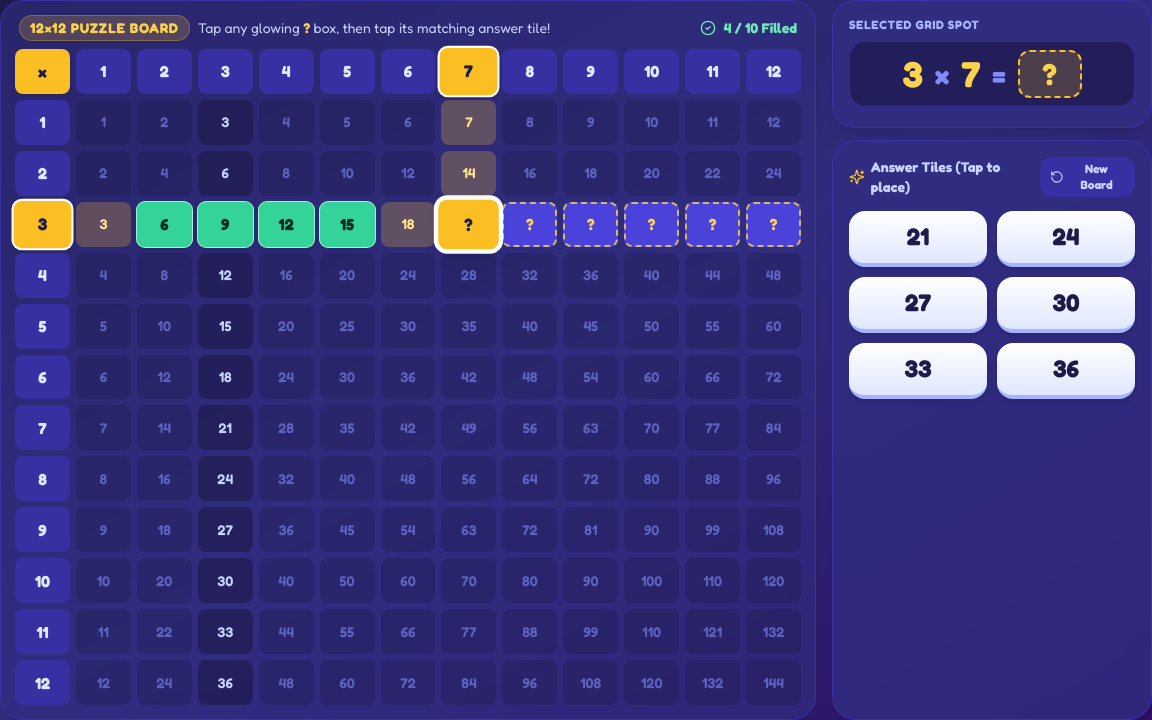
Test: GridDetectiveMode › completes the round when all 10 missing cells are matched
Earlier steps of the test are not shown.
What coordinates should you click on to do the following:
click the button "21"
I would click on:
 (918, 239)
Its box is [849,211,987,267].
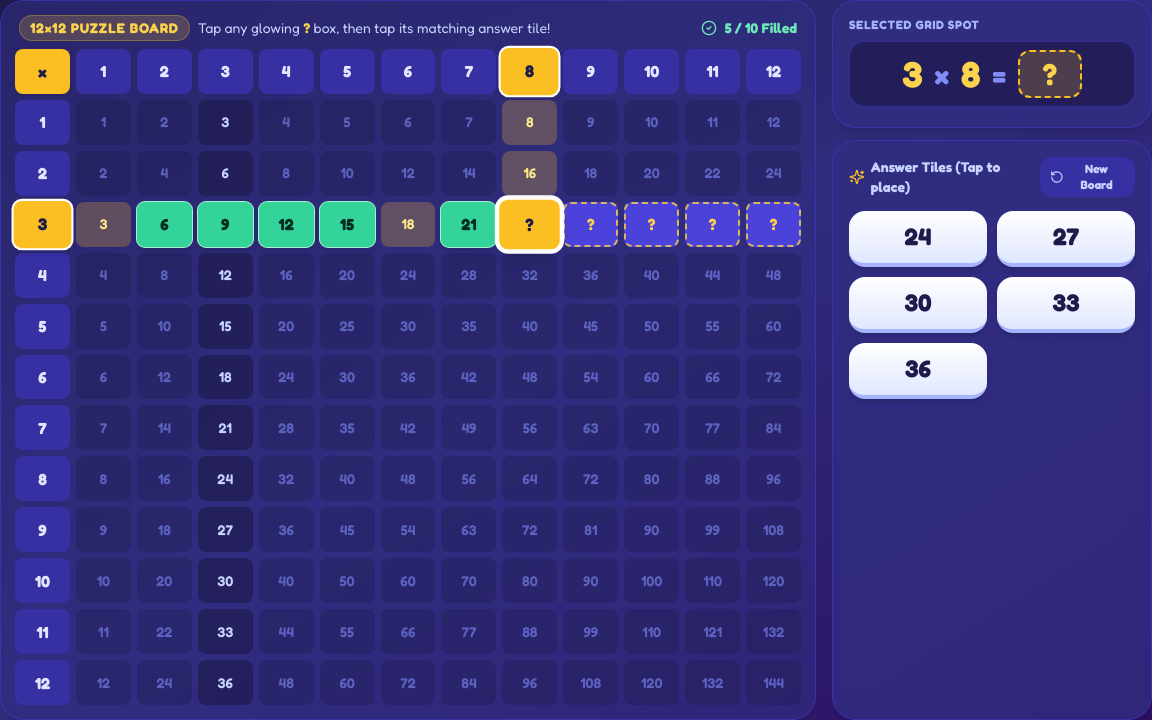
What coordinates should you click on to do the following:
click the button "24"
I would click on:
 (918, 239)
Its box is [849,211,987,267].
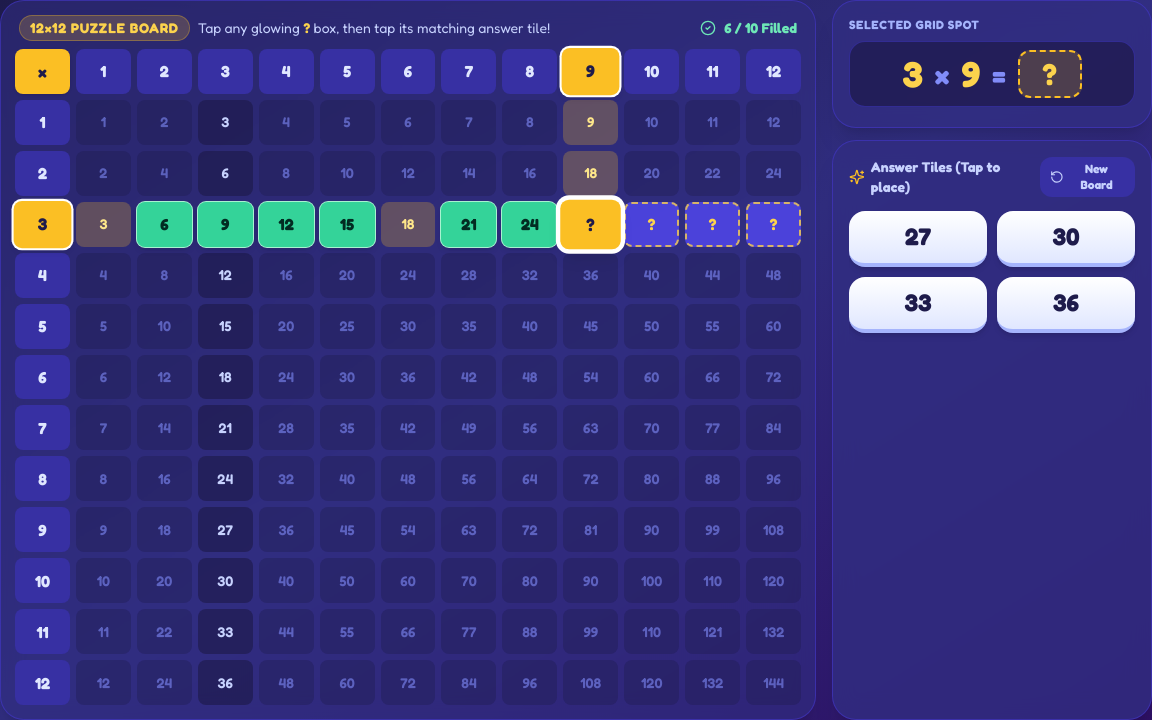
What coordinates should you click on to do the following:
click the button "27"
I would click on:
 (918, 239)
Its box is [849,211,987,267].
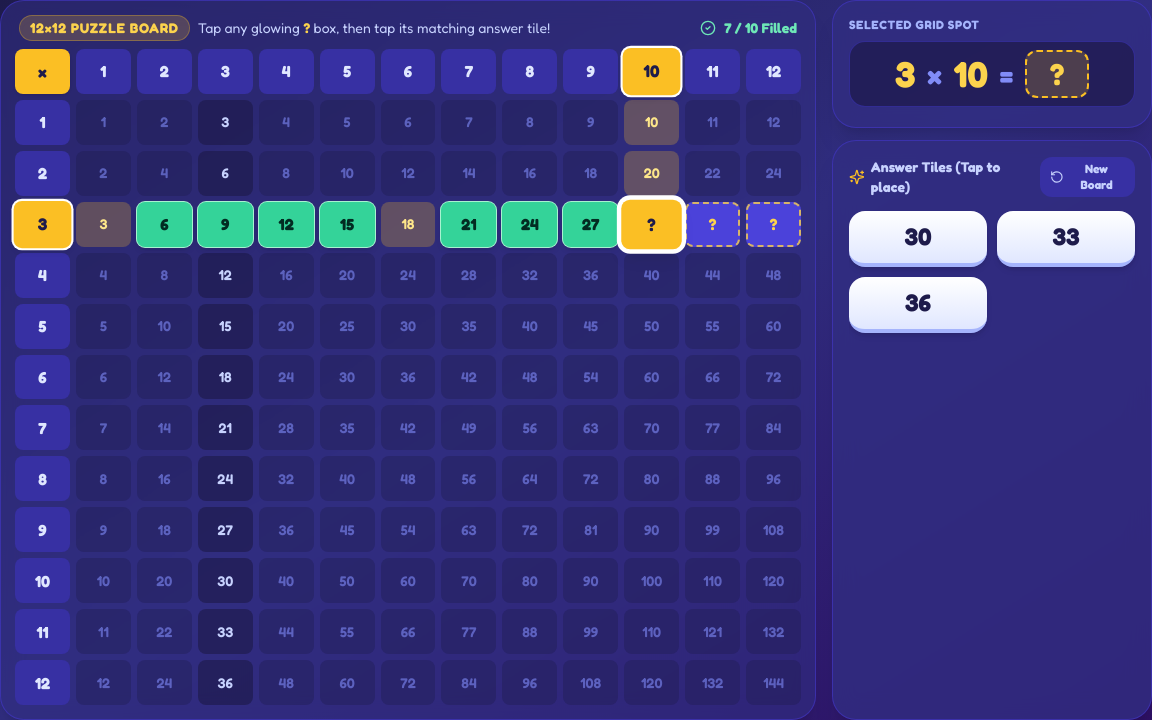
What coordinates should you click on to do the following:
click the button "30"
I would click on:
 (918, 239)
Its box is [849,211,987,267].
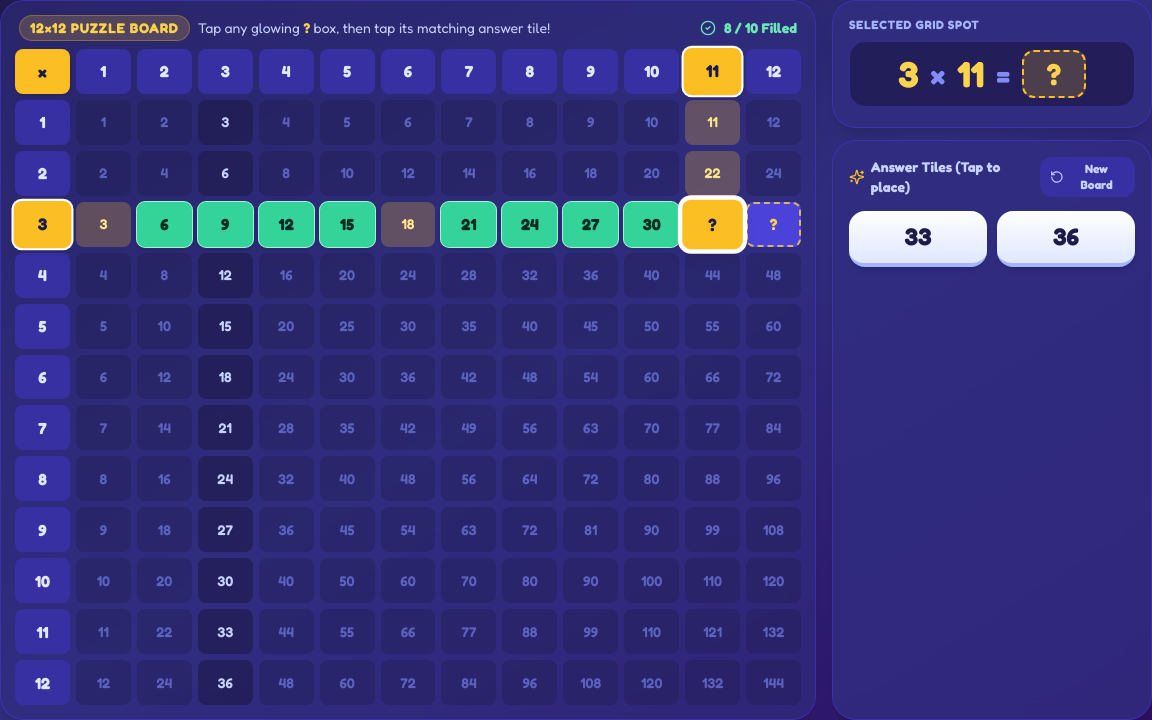
What coordinates should you click on to do the following:
click the button "33"
I would click on:
 (918, 239)
Its box is [849,211,987,267].
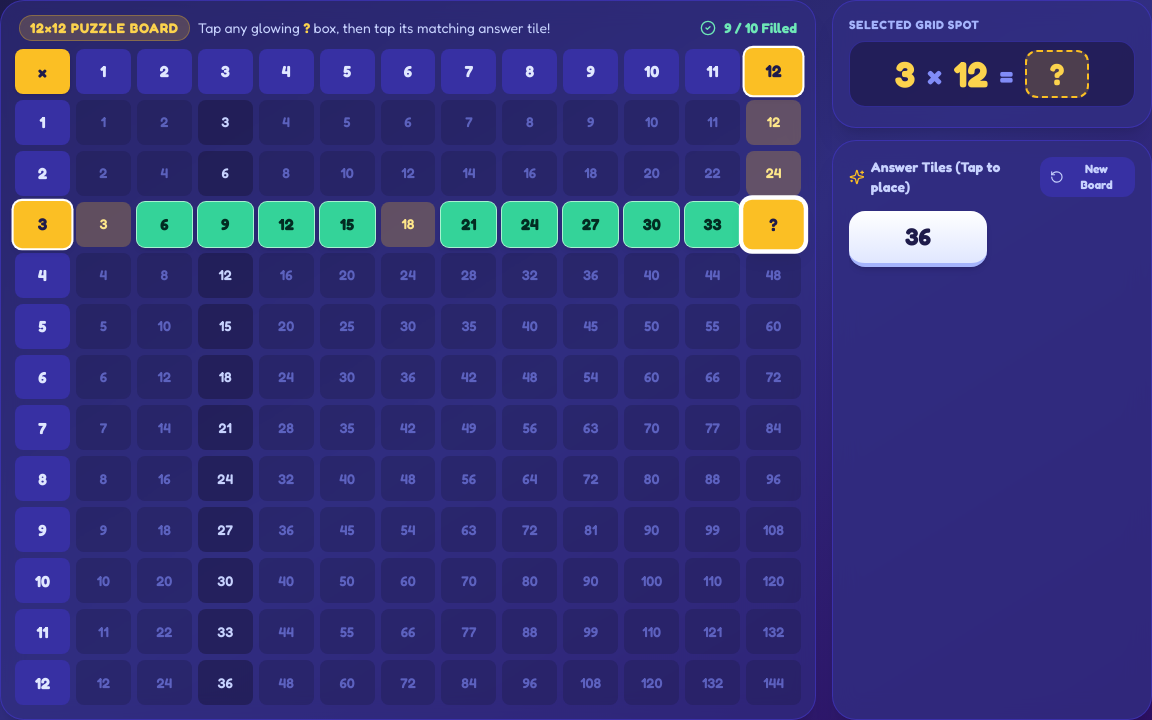
What coordinates should you click on to do the following:
click the button "36"
I would click on:
 (918, 239)
Its box is [849,211,987,267].
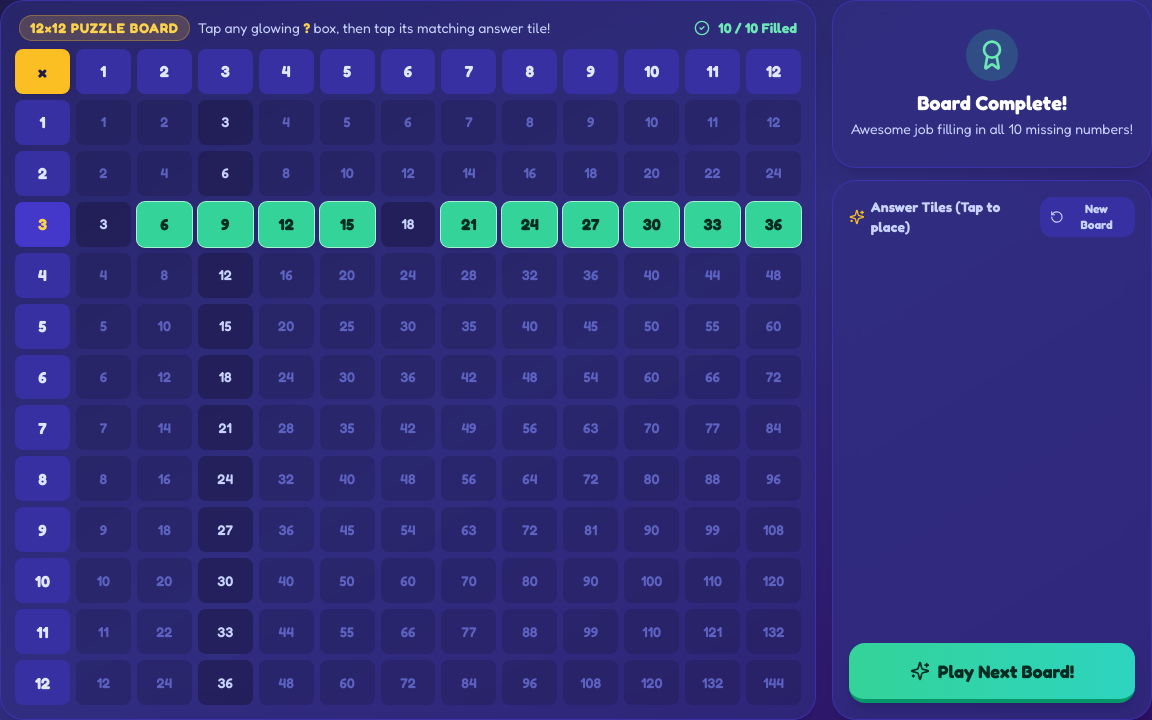
Expected: the text "10 / 10 Filled" is shown, [718,18,797,38]
Expected: the heading "Board Complete!" is shown, [917,91,1067,115]
Expected: the text "Play Next Board!" is shown, [938,657,1074,685]
